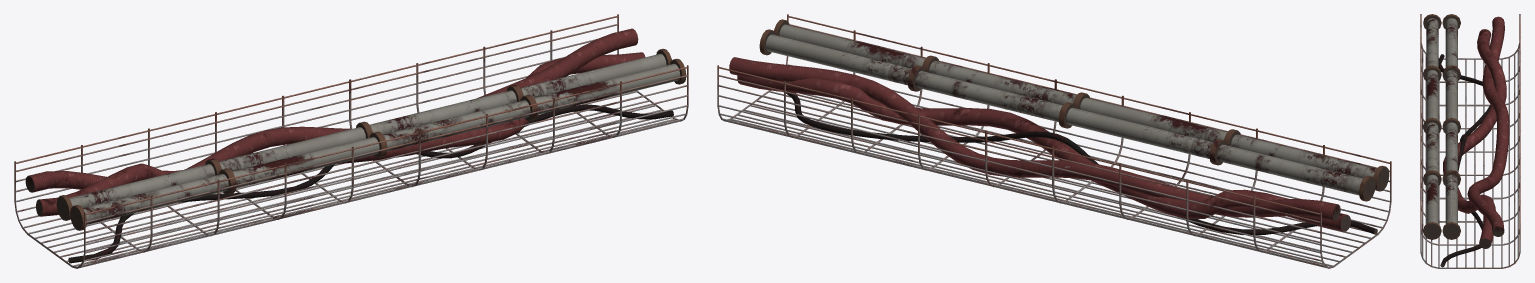
The model's file is Cabels.fbx.
3 renders of one model, left to right at view 1: azimuth 30°, elevation 25°; view 2: azimuth 150°, elevation 25°; view 3: azimuth 270°, elevation 25°, orthographic. The views are drawn at different scales.
Visible parts, largest first — view 1: Shape001; view 2: Shape001; view 3: Shape001.
Part boxes in pixels (<box>): Shape001: <box>14,14,688,268</box>; Shape001: <box>717,14,1391,268</box>; Shape001: <box>1420,14,1520,268</box>.
Size of the model in its own units: 100 by 10.16 by 20.3.
1 material, 1 textured.
